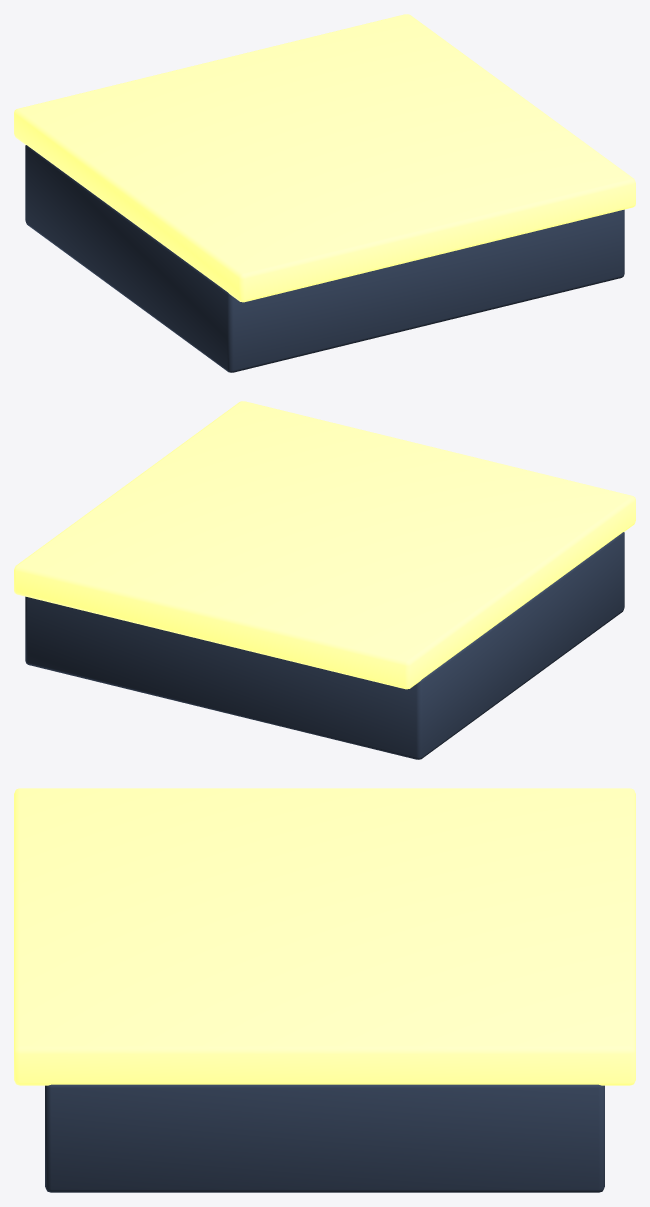
File: SM_Platform_Checkpoint.fbx
3 views of the same model, one above another, from view 1: azimuth 30°, elevation 25°; view 2: azimuth 150°, elevation 25°; view 3: azimuth 270°, elevation 25° (orthographic). The views are drawn at different scales.
Parts seen in each view (by area): view 1: SM_Platform_Checkpoint; view 2: SM_Platform_Checkpoint; view 3: SM_Platform_Checkpoint.
Boxes of the visible parts, x1,y1,x2,y2 form: SM_Platform_Checkpoint: [14, 14, 635, 372]; SM_Platform_Checkpoint: [14, 401, 635, 759]; SM_Platform_Checkpoint: [14, 788, 635, 1192].
Size of the model in its own units: 100 by 100 by 26.
